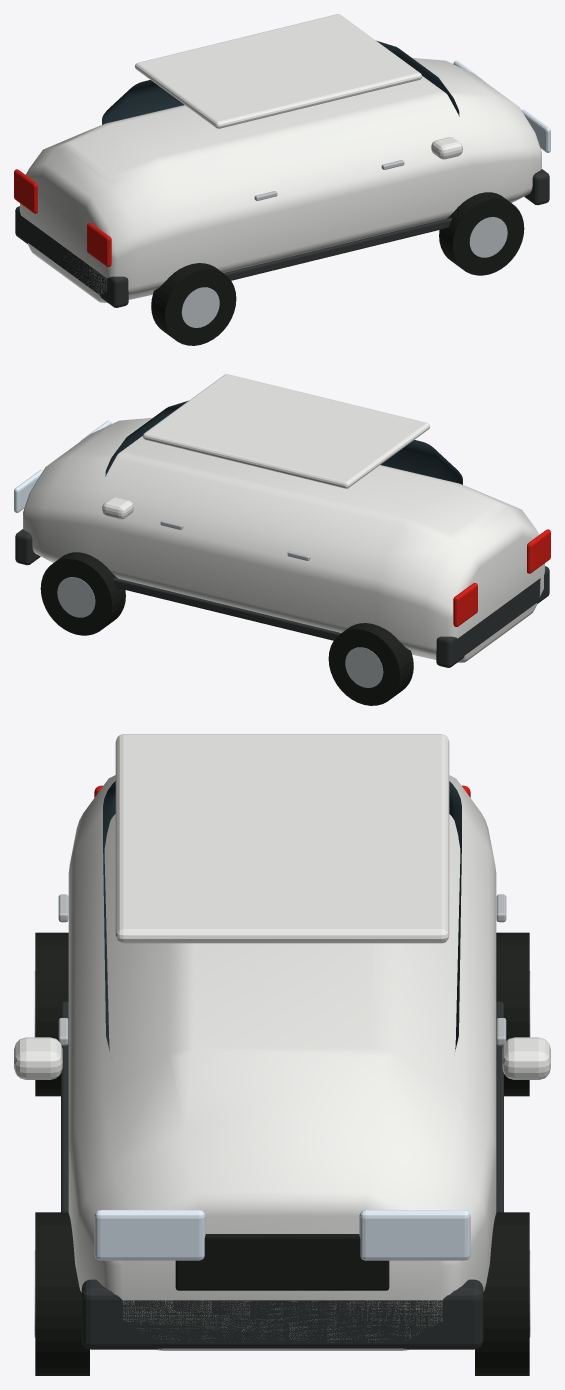
The model's file is vehicle.glb.
3 renders of one model, top to bottom at view 1: azimuth 30°, elevation 25°; view 2: azimuth 150°, elevation 25°; view 3: azimuth 270°, elevation 25°, orthographic. The views are drawn at different scales.
Visible parts, largest first — view 1: Sculpted body, Roof, Cylinder, Cylinder.004, Rear bumper, Glasshouse, Sill, Cylinder.001, Cylinder.005, Tail lamp, Tail lamp.001, Front bumper (+2 smaller); view 2: Sculpted body, Roof, Cylinder.002, Cylinder.006, Rear bumper, Glasshouse, Sill.001, Cylinder.003, Cylinder.007, Tail lamp.001, Tail lamp, Front bumper (+2 smaller); view 3: Sculpted body, Roof, Front bumper, Grille, Cylinder.004, Cylinder.006, Headlamp, Headlamp.001, Cylinder, Cylinder.002, Glasshouse, Mirror (+3 smaller).
Boxes of the visible parts, <box> form: Sculpted body: <box>20,57,541,302</box>; Roof: <box>135,14,422,128</box>; Cylinder: <box>151,263,236,345</box>; Cylinder.004: <box>439,192,524,275</box>; Rear bumper: <box>15,206,128,307</box>; Glasshouse: <box>102,40,459,124</box>; Sill: <box>223,217,451,280</box>; Cylinder.001: <box>181,287,219,327</box>; Cylinder.005: <box>469,217,507,257</box>; Tail lamp: <box>87,223,111,266</box>; Tail lamp.001: <box>14,169,37,213</box>; Front bumper: <box>524,169,549,205</box>; Sculpted body: <box>23,417,544,662</box>; Roof: <box>142,374,429,488</box>; Cylinder.002: <box>328,623,413,705</box>; Cylinder.006: <box>40,552,125,635</box>; Rear bumper: <box>436,566,549,667</box>; Glasshouse: <box>105,400,462,484</box>; Sill.001: <box>113,577,341,640</box>; Cylinder.003: <box>345,647,383,687</box>; Cylinder.007: <box>57,577,95,617</box>; Tail lamp.001: <box>453,583,477,626</box>; Tail lamp: <box>527,529,550,573</box>; Front bumper: <box>15,529,40,565</box>; Sculpted body: <box>68,775,496,1350</box>; Roof: <box>115,734,449,943</box>; Front bumper: <box>81,1279,483,1349</box>; Grille: <box>175,1234,389,1290</box>; Cylinder.004: <box>35,1212,89,1375</box>; Cylinder.006: <box>475,1212,529,1375</box>; Headlamp: <box>94,1210,205,1260</box>; Headlamp.001: <box>359,1210,470,1260</box>; Cylinder: <box>35,932,68,1096</box>; Cylinder.002: <box>496,932,529,1096</box>; Glasshouse: <box>103,781,461,1051</box>; Mirror: <box>14,1037,62,1079</box>.
Size of what is drawn, in the model's own units: 3.36 by 1.42 by 1.77.
